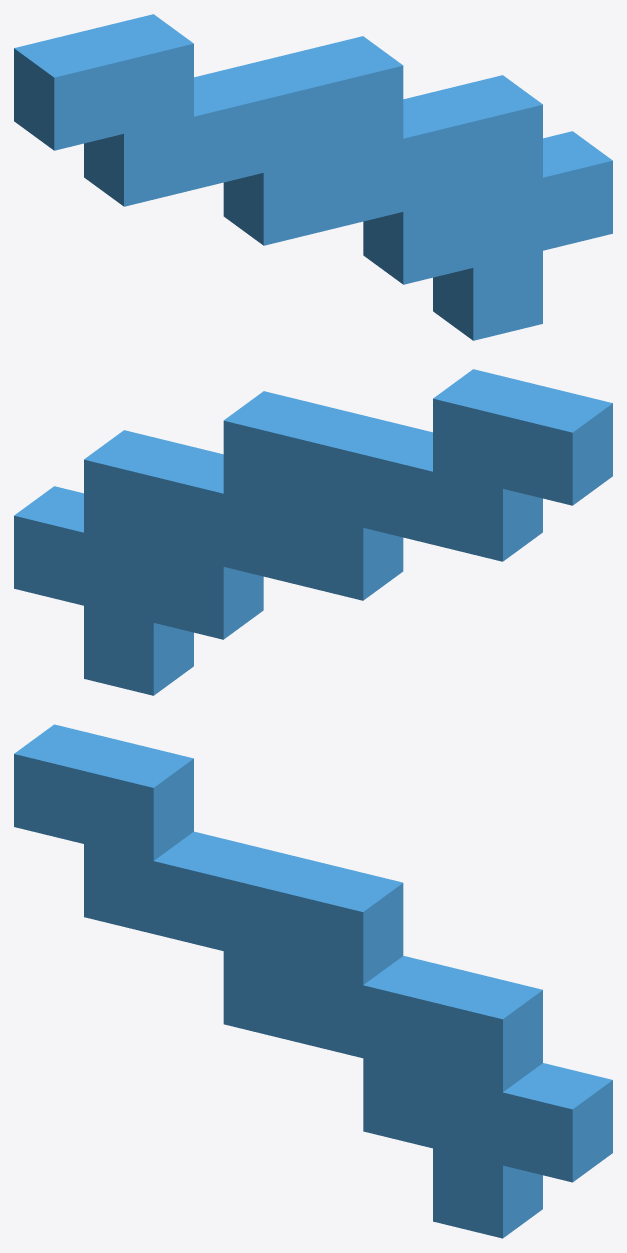
Rendered from Lightning-Large-Blue.vox.obj.
3 views of the same model, one above another, from view 1: azimuth 30°, elevation 25°; view 2: azimuth 150°, elevation 25°; view 3: azimuth 330°, elevation 25° (orthographic).
Bounding box in the file's own units: 0.8 × 0.5 × 0.1.
1 material, 1 textured.
